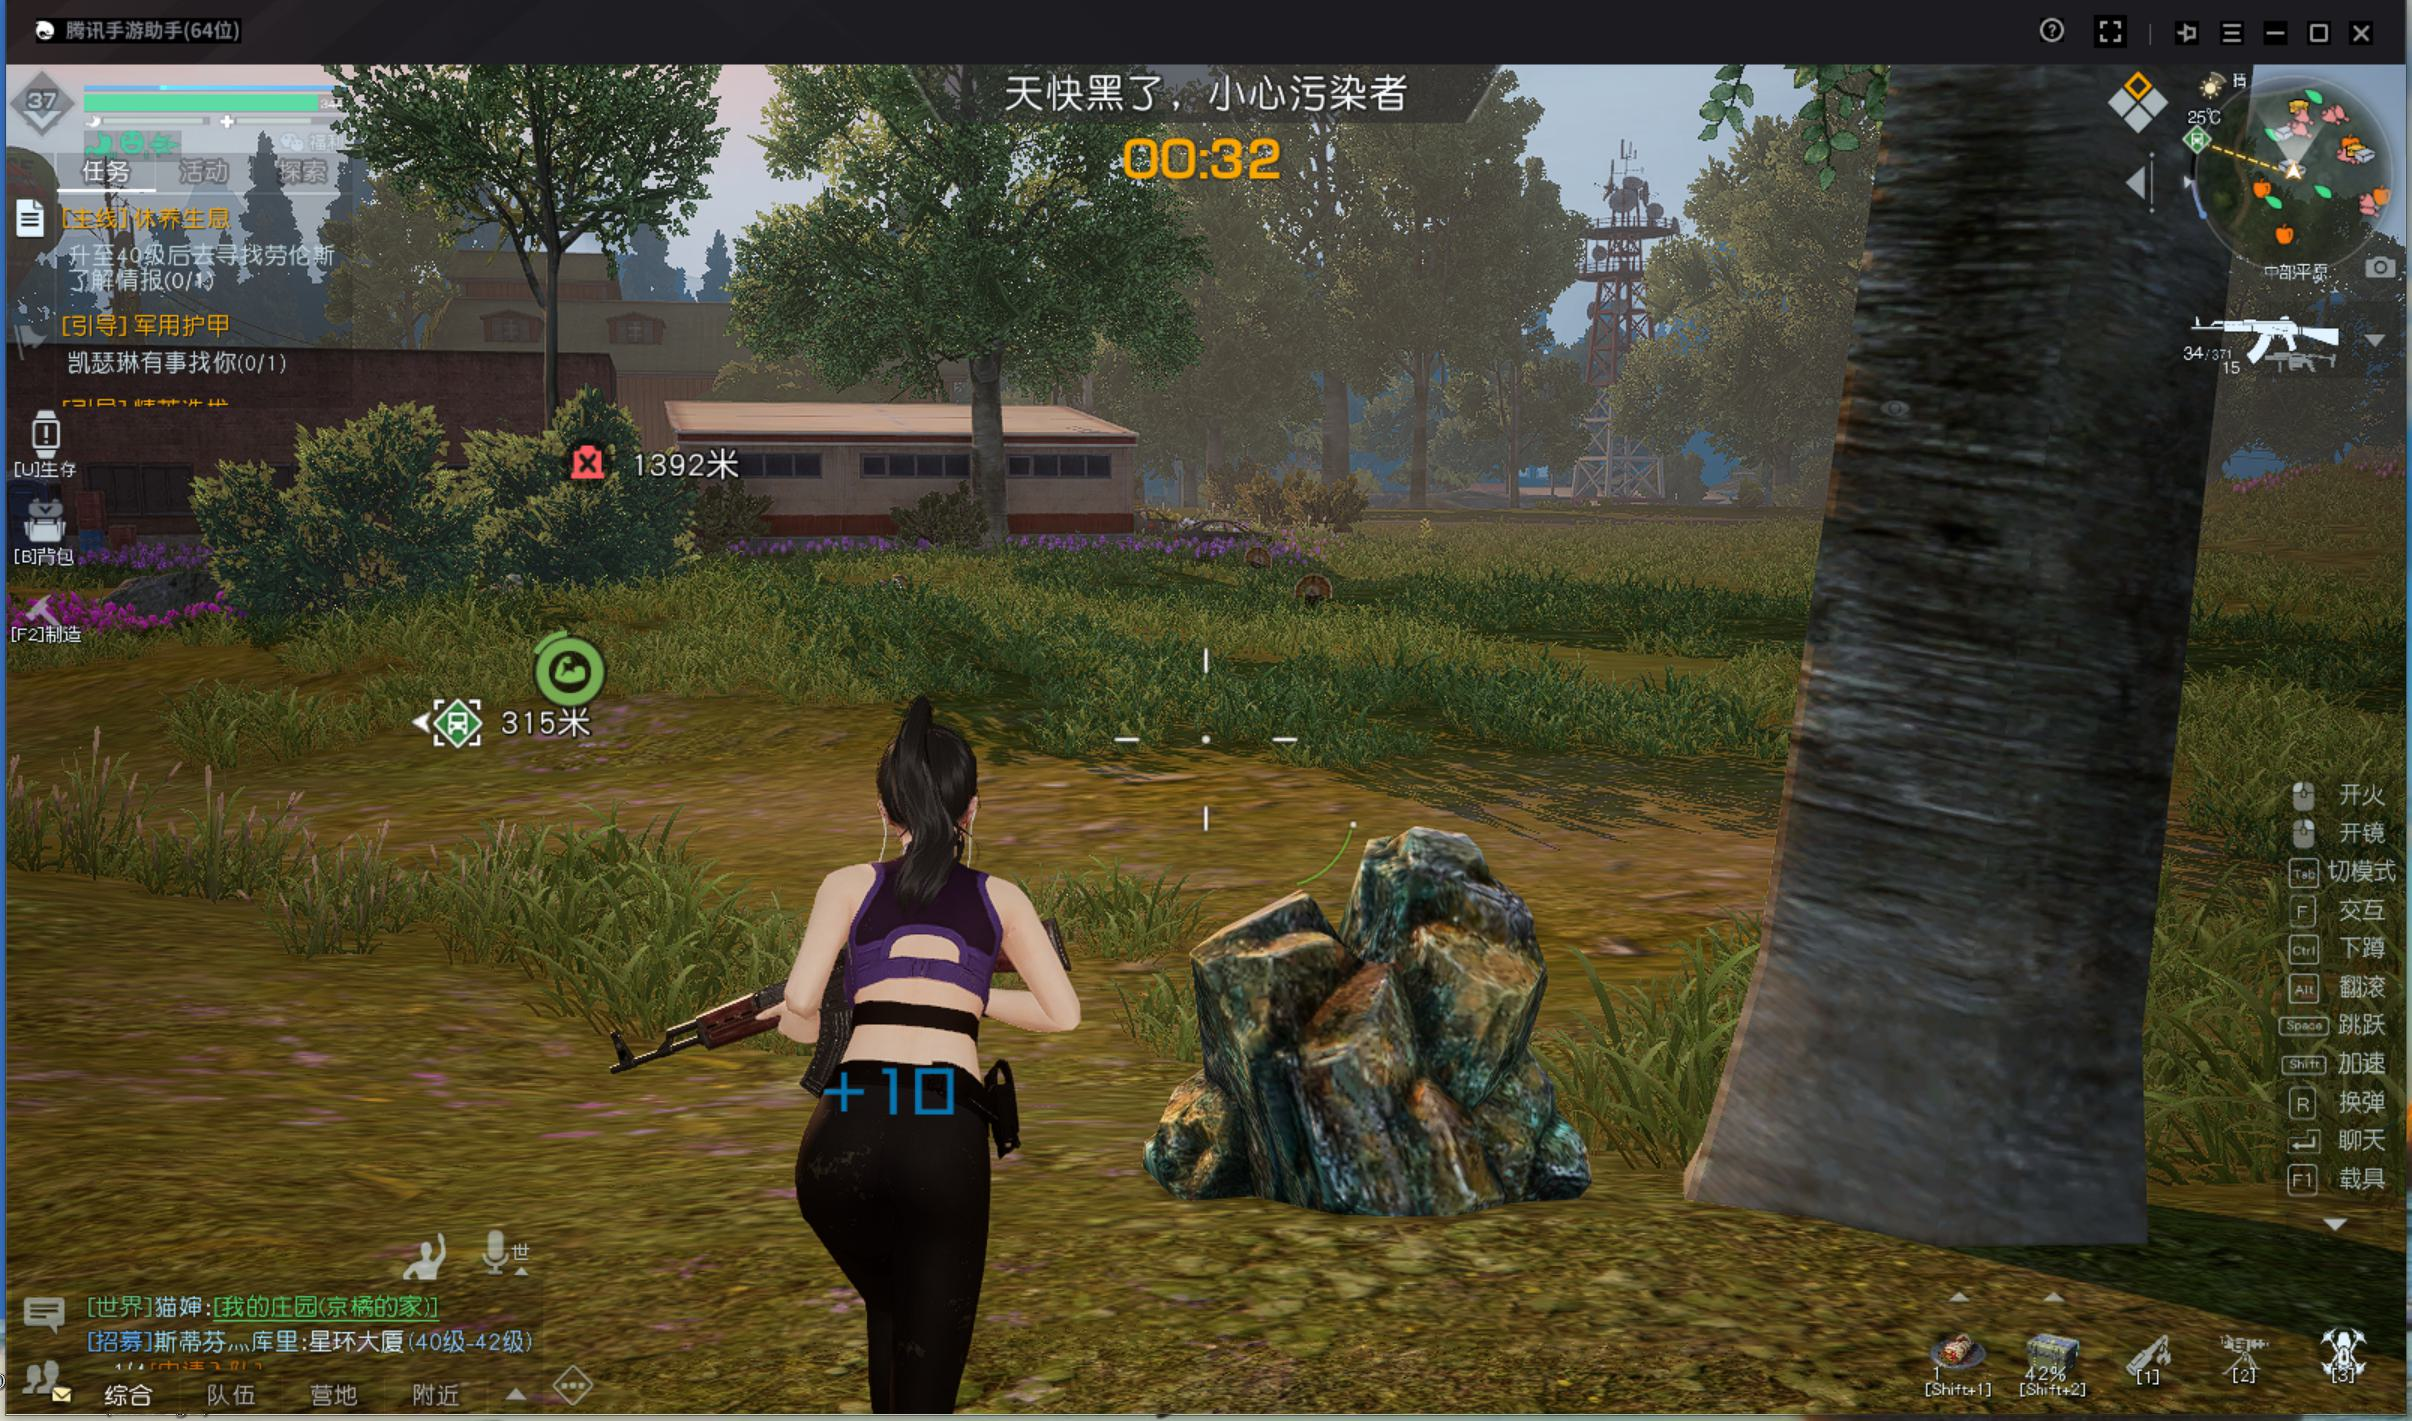stone: (1150, 751, 1580, 1243)
tree: (1790, 137, 2189, 1298), (957, 350, 1044, 572), (1302, 382, 1372, 516), (1401, 372, 1438, 523)
